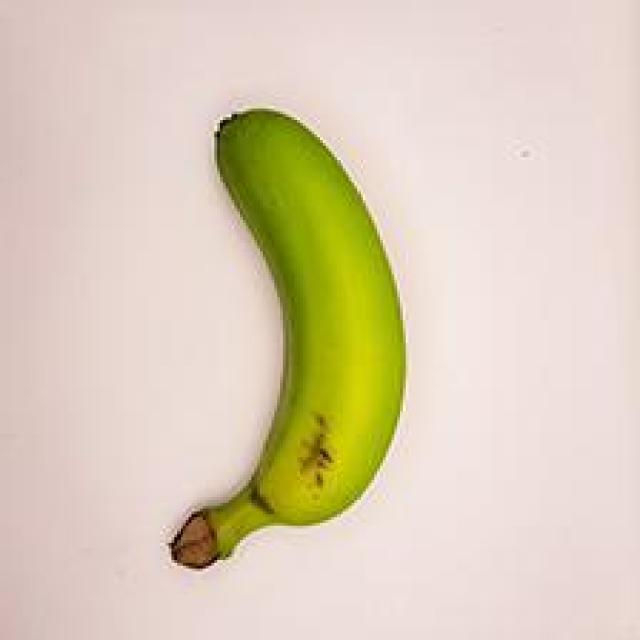Unripe: (136, 94, 417, 584)
